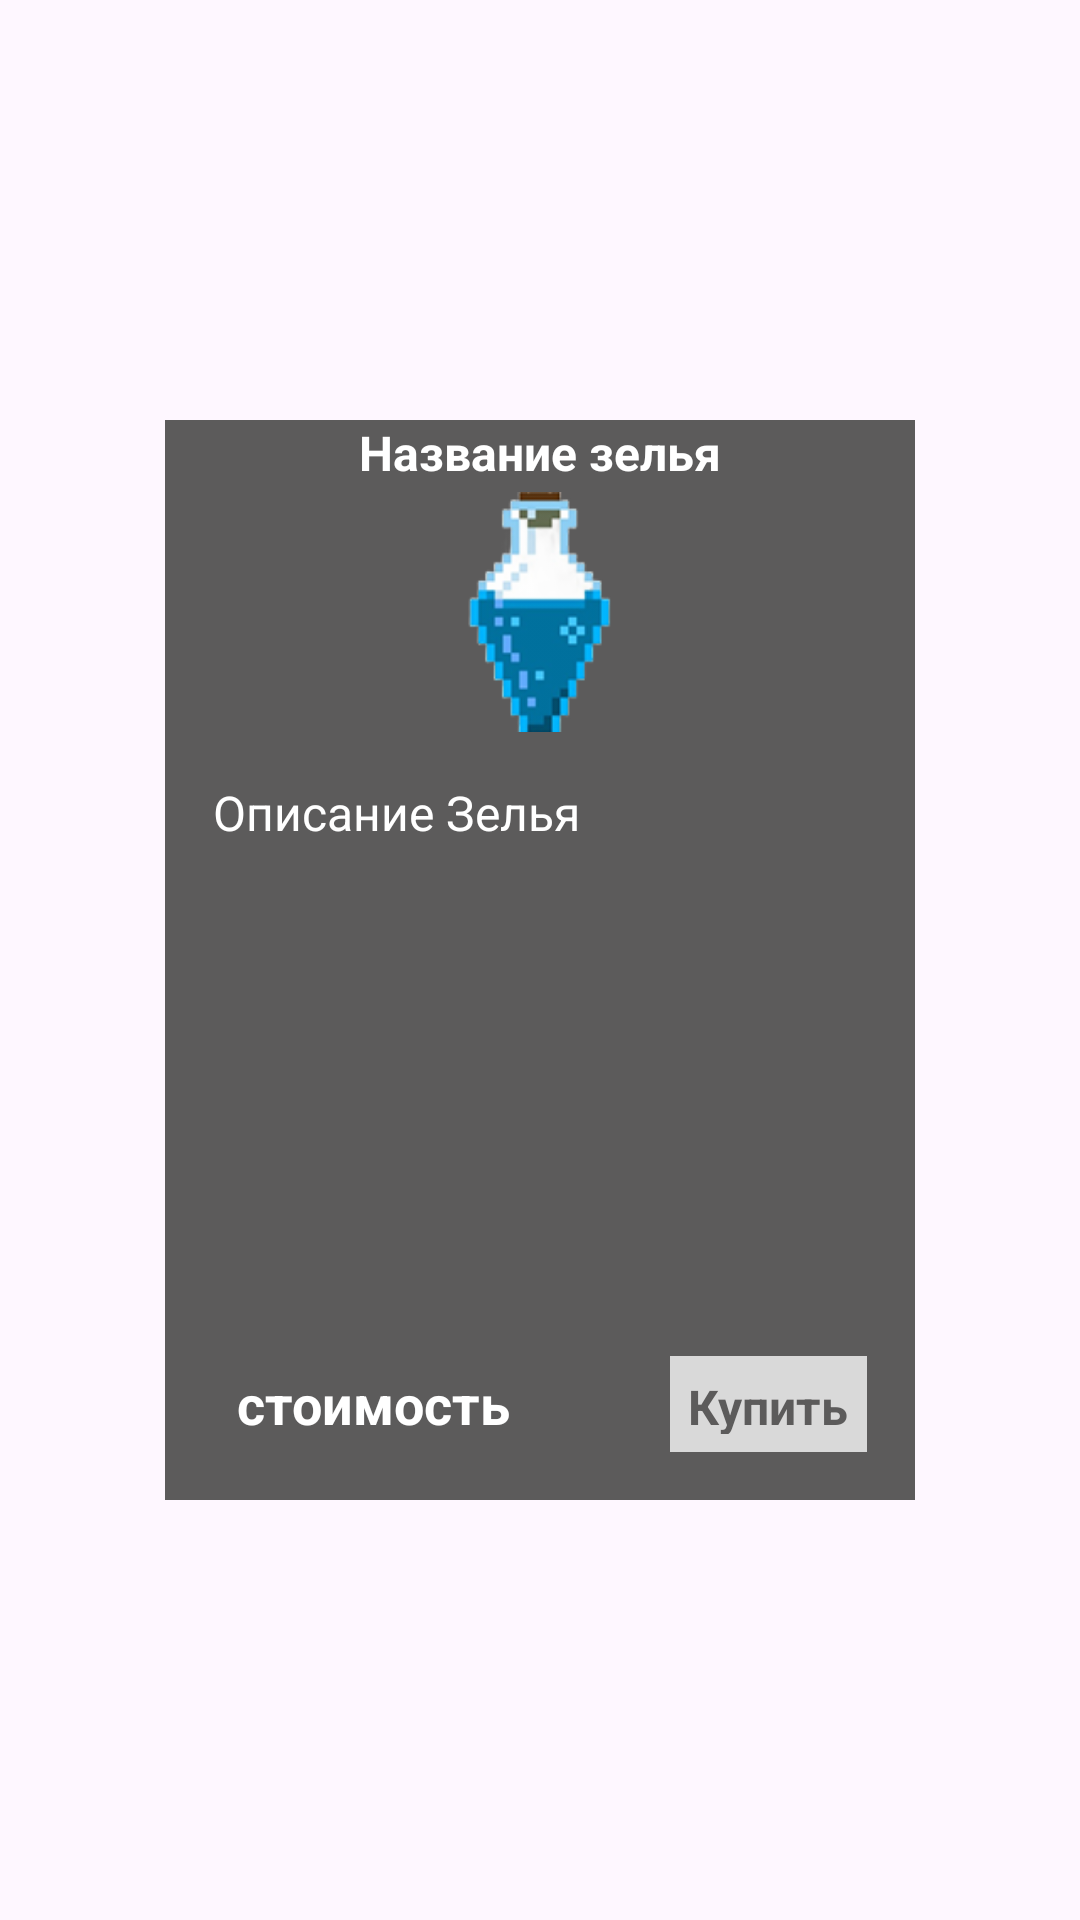

Named icons in this screenshot (1080 x 1920) and their centers, (x=x, y=y):
potion freeze: (x=539, y=612)
